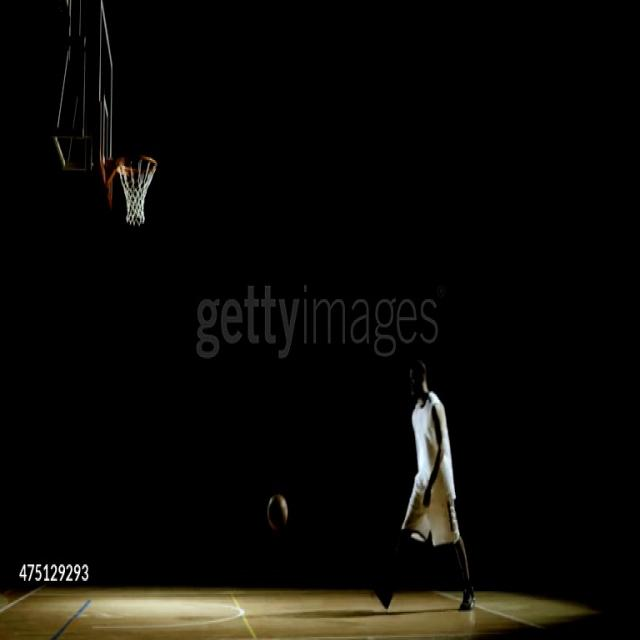ball: (267, 493, 288, 532)
